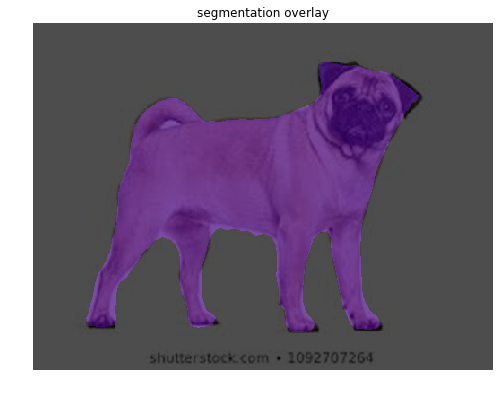unlabelled: (69, 35, 442, 380)
